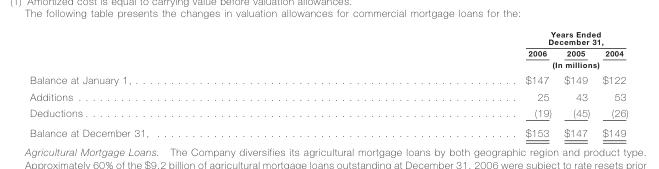table: (29, 29, 627, 138)
table column: (29, 29, 336, 138), (336, 29, 557, 138), (557, 29, 595, 138), (595, 29, 627, 138)
table column header: (29, 29, 627, 71)
table row: (29, 104, 627, 122), (29, 29, 627, 46), (29, 87, 627, 104), (29, 71, 627, 87), (29, 122, 627, 138), (29, 58, 627, 71), (29, 46, 627, 58)
table spanning cell: (336, 29, 627, 46), (336, 58, 627, 71)
